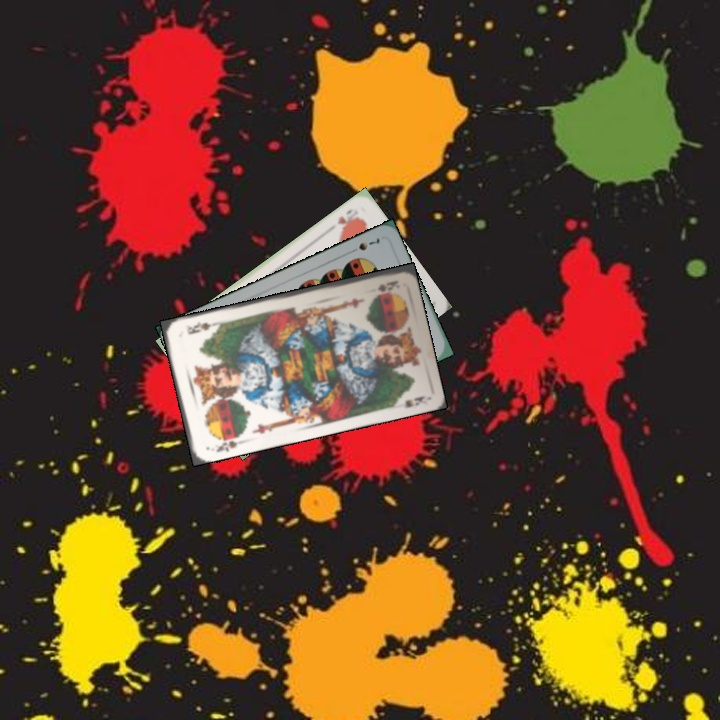HO: (334, 205, 361, 232)
S7: (354, 234, 383, 253)
SK: (212, 430, 244, 454), (373, 276, 402, 294)
